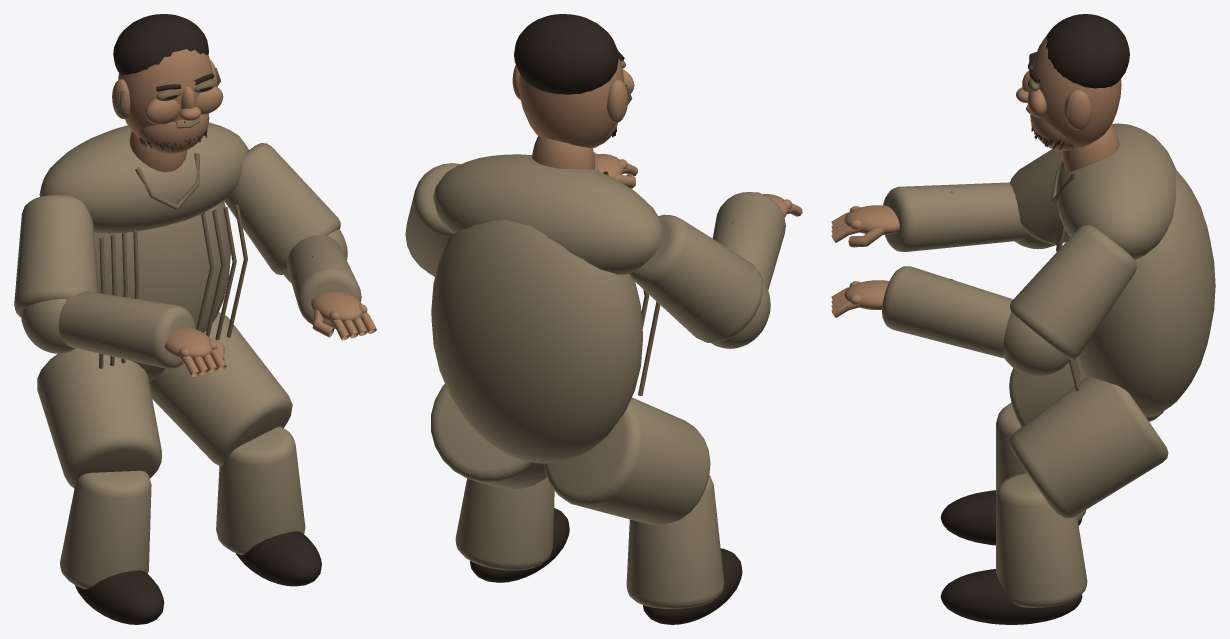
File: artisan.glb
The picture shows the model from 3 angles, left to right: view 1: azimuth 30°, elevation 25°; view 2: azimuth 150°, elevation 25°; view 3: azimuth 270°, elevation 25°; orthographic projection. The views are drawn at different scales.
Parts seen in each view (by area): view 1: artisan craftwork; view 2: artisan craftwork; view 3: artisan craftwork.
Boxes of the visible parts, x1=… form: artisan craftwork: x1=14, y1=14, x2=376, y2=624; artisan craftwork: x1=405, y1=14, x2=802, y2=624; artisan craftwork: x1=831, y1=14, x2=1215, y2=624.
Bounding box in the file's own units: 0.8477 × 1.4 × 0.8661.
